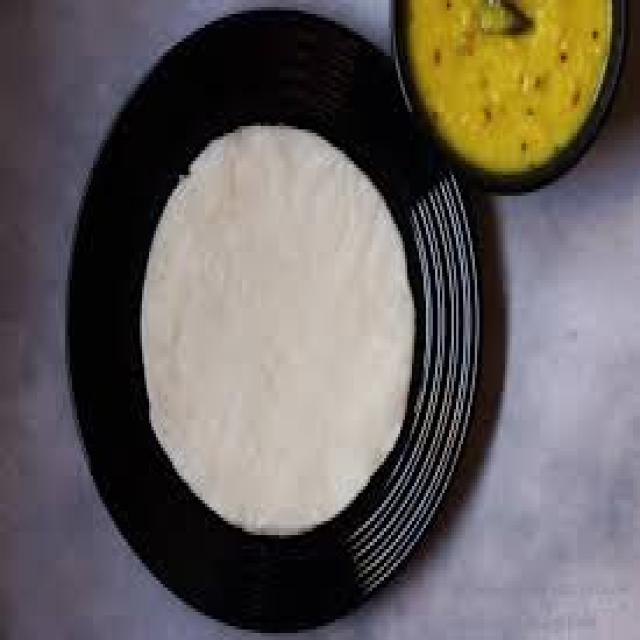RICE BHAKRI: (141, 124, 415, 536)
